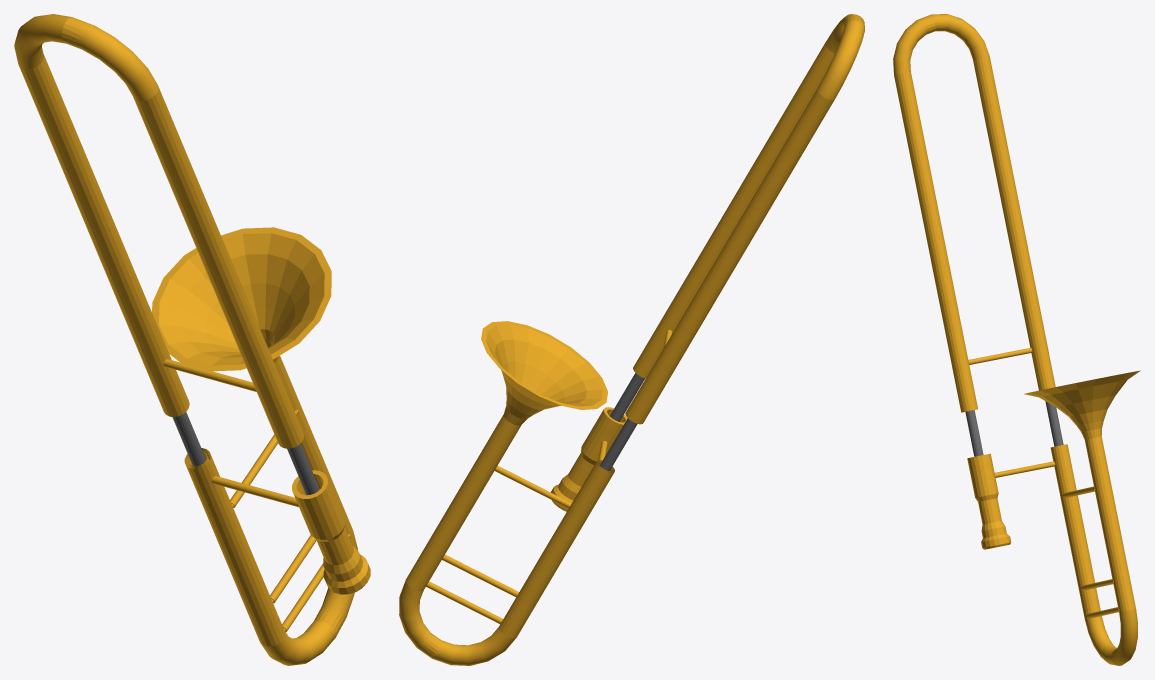
Rendered from trombone.FBX.
3 renders of one model, left to right at view 1: azimuth 30°, elevation 25°; view 2: azimuth 150°, elevation 25°; view 3: azimuth 270°, elevation 25°, orthographic. The views are drawn at different scales.
Visible parts, largest first — view 1: bec, coulisse, embouchure, coulisse_une001, Tube002, Tube001, Tube004, Tube005, Tube003; view 2: bec, coulisse, embouchure, coulisse_une001; view 3: coulisse, bec, embouchure, coulisse_une001, Tube002.
Boxes of the visible parts, <box> form: bec: <box>152,227,357,665</box>; coulisse: <box>14,14,303,448</box>; embouchure: <box>292,470,370,594</box>; coulisse_une001: <box>172,412,319,495</box>; Tube002: <box>163,359,256,391</box>; Tube001: <box>211,476,298,507</box>; Tube004: <box>270,535,316,603</box>; Tube005: <box>230,409,298,507</box>; Tube003: <box>282,534,350,631</box>; bec: <box>399,321,614,665</box>; coulisse: <box>625,14,864,424</box>; embouchure: <box>550,407,627,511</box>; coulisse_une001: <box>600,373,644,470</box>; coulisse: <box>893,14,1055,412</box>; bec: <box>1024,370,1140,665</box>; embouchure: <box>967,453,1011,549</box>; coulisse_une001: <box>965,401,1063,456</box>; Tube002: <box>968,348,1032,364</box>.
Bounding box in the file's own units: 611 × 1052 × 446.
